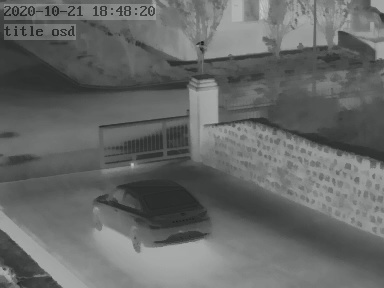vehicle: (90, 177, 210, 248)
